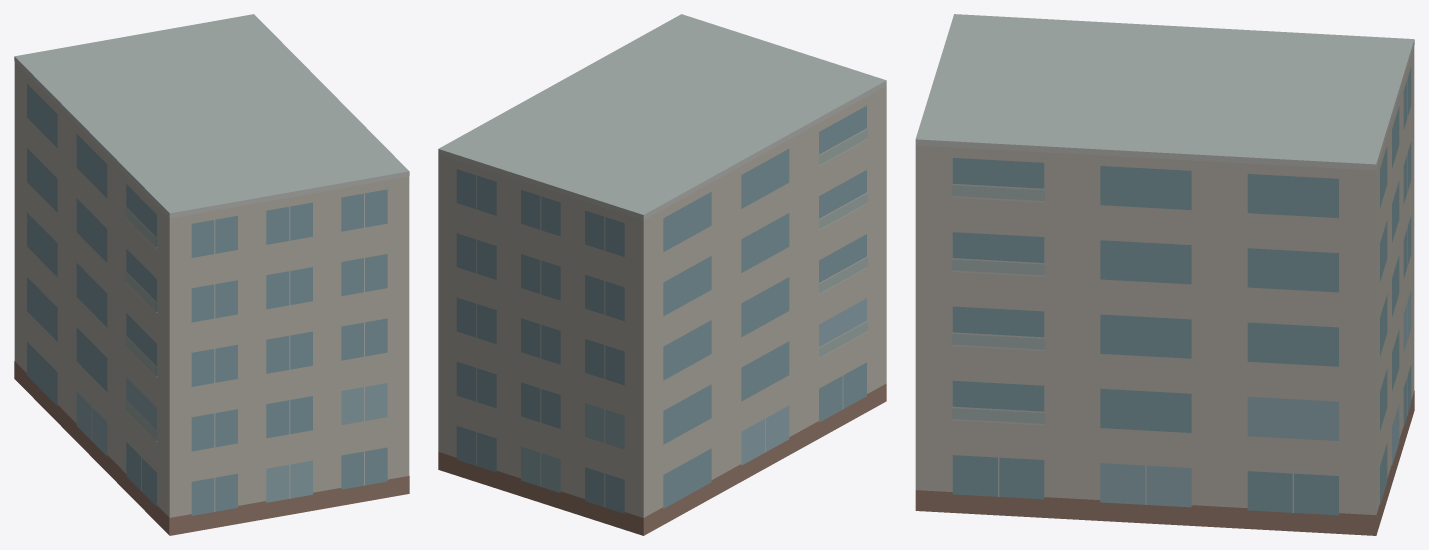
Rendered from survey-upis-33046586.glb.
The picture shows the model from 3 angles, left to right: view 1: azimuth 30°, elevation 25°; view 2: azimuth 150°, elevation 25°; view 3: azimuth 270°, elevation 25°; orthographic projection. The views are drawn at different scales.
Visible parts, largest first — view 1: survey-upis-33046586.tmp; view 2: survey-upis-33046586.tmp; view 3: survey-upis-33046586.tmp.
Boxes of the visible parts, left/top/right/bottom form: survey-upis-33046586.tmp: left=14, top=14, right=409, bottom=535; survey-upis-33046586.tmp: left=438, top=14, right=886, bottom=535; survey-upis-33046586.tmp: left=915, top=14, right=1414, bottom=535.
Size of the model in its own units: 13.25 by 15.25 by 18.57.
